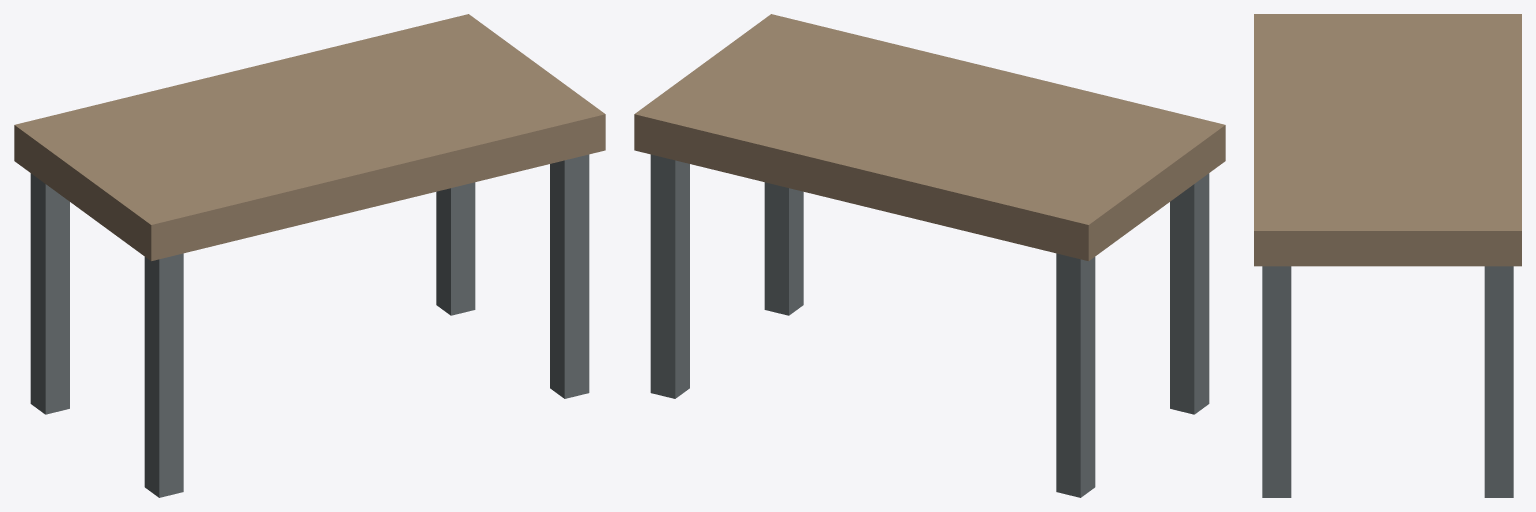
File: iz2_fishmonger_ice_table.glb
3 views of the same model, side by side, from view 1: azimuth 30°, elevation 25°; view 2: azimuth 150°, elevation 25°; view 3: azimuth 270°, elevation 25° (orthographic). The views are drawn at different scales.
Parts seen in each view (by area): view 1: body; view 2: body; view 3: body.
Boxes of the visible parts, x1,y1,x2,y2 form: body: (14, 14, 605, 497); body: (634, 14, 1225, 497); body: (1254, 14, 1521, 497).
Bounding box in the file's own units: 1.29 × 0.7546 × 0.6711.
